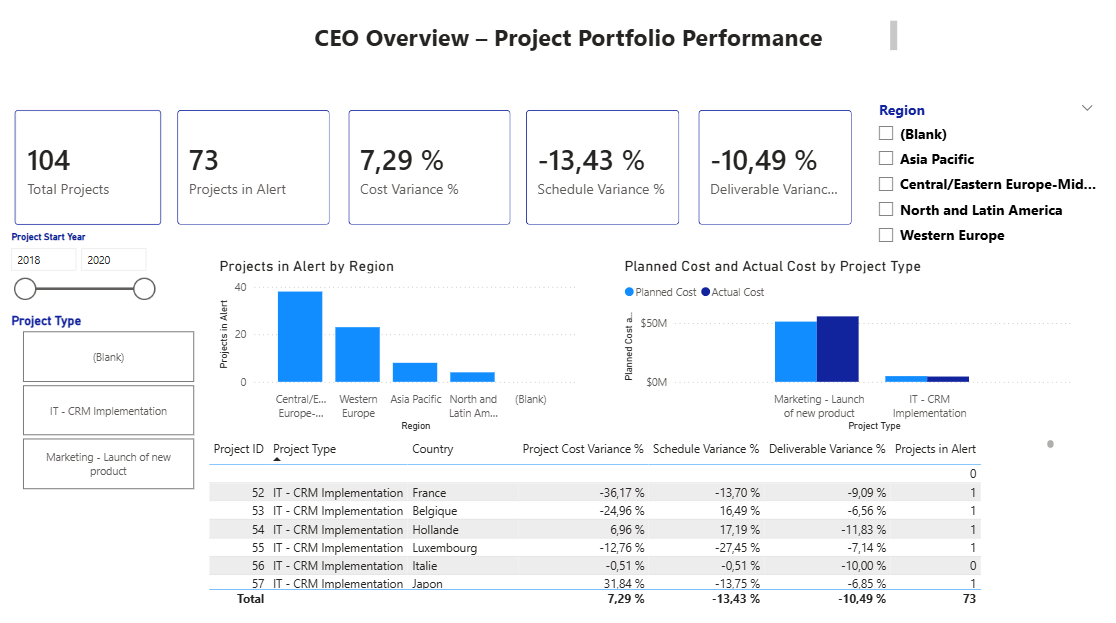

The dashboard page shown, as its layout file describes it:
{"tool":"powerbi","page":{"name":"CEO overview","canvas":[1280,720],"ordinal":0},"visuals":[{"type":"cardVisual","fields":{"Data":["Actual_Costs.Total Projects"]},"box":[0,115.6,201.2,165.6],"z":0},{"type":"cardVisual","fields":{"Data":["Actual_Costs.Cost Variance %"]},"box":[381.1,115.6,219.8,165.6],"z":1000},{"type":"cardVisual","fields":{"Data":["Actual_Costs.Projects in Alert","Actual_Costs.Projects in Alert","Actual_Costs.Projects in Alert"]},"box":[185.5,115.6,208.4,165.6],"z":2000},{"type":"textbox","box":[346.8,25.7,682.3,44.2],"z":3000},{"type":"cardVisual","fields":{"Data":["Actual_Costs.Schedule Variance %"]},"box":[583.8,115.6,209.8,165.6],"z":4000},{"type":"slicer","fields":{"Values":["Country_Profiles.Region"]},"box":[990.5,115.6,269.8,187],"z":5000},{"type":"cardVisual","fields":{"Data":["Actual_Costs.Deliverable Variance %"]},"box":[780.7,115.6,209.8,165.6],"z":6000},{"type":"slicer","fields":{"Values":["Dim_Project.Project Type"]},"box":[0,359.7,245.5,212.7],"z":7000},{"type":"slicer","fields":{"Values":["Dim_Project.Project Start Year"]},"box":[0,265.5,185.5,94.2],"z":8000},{"type":"clusteredColumnChart","fields":{"Y":["Actual_Costs.Projects in Alert"],"Category":["Country_Profiles.Region"]},"box":[245.5,299.7,418.2,204.1],"z":9000},{"type":"clusteredColumnChart","fields":{"Category":["Dim_Project.Project Type"],"Y":["Actual_Costs.Planned Cost","Actual_Costs.Actual Cost"]},"box":[707.9,299.7,522.4,204.1],"z":10000},{"type":"tableEx","fields":{"Values":["Dim_Project.Project ID","Dim_Project.Project Type","Dim_Project.Country","Actual_Costs.Project Cost Variance %","Actual_Costs.Schedule Variance %","Actual_Costs.Deliverable Variance %","Actual_Costs.Projects in Alert"]},"box":[232.7,503.8,976.3,201.2],"z":11000}]}

Visuals, with their boxes in screenshot pixels (x1, y1, x2, y2), scaled from the page's 1280x720 canvas onto the 1116x623 screenshot:
cardVisual - Actual_Costs.Total Projects: region(0, 100, 175, 243)
cardVisual - Actual_Costs.Cost Variance %: region(332, 100, 524, 243)
cardVisual - Actual_Costs.Projects in Alert x Actual_Costs.Projects in Alert: region(162, 100, 343, 243)
textbox: region(302, 22, 897, 60)
cardVisual - Actual_Costs.Schedule Variance %: region(509, 100, 692, 243)
slicer - Country_Profiles.Region: region(864, 100, 1099, 262)
cardVisual - Actual_Costs.Deliverable Variance %: region(681, 100, 864, 243)
slicer - Dim_Project.Project Type: region(0, 311, 214, 495)
slicer - Dim_Project.Project Start Year: region(0, 230, 162, 311)
clusteredColumnChart - Actual_Costs.Projects in Alert x Country_Profiles.Region: region(214, 259, 579, 436)
clusteredColumnChart - Dim_Project.Project Type x Actual_Costs.Planned Cost: region(617, 259, 1073, 436)
tableEx - Dim_Project.Project ID x Dim_Project.Project Type: region(203, 436, 1054, 610)
